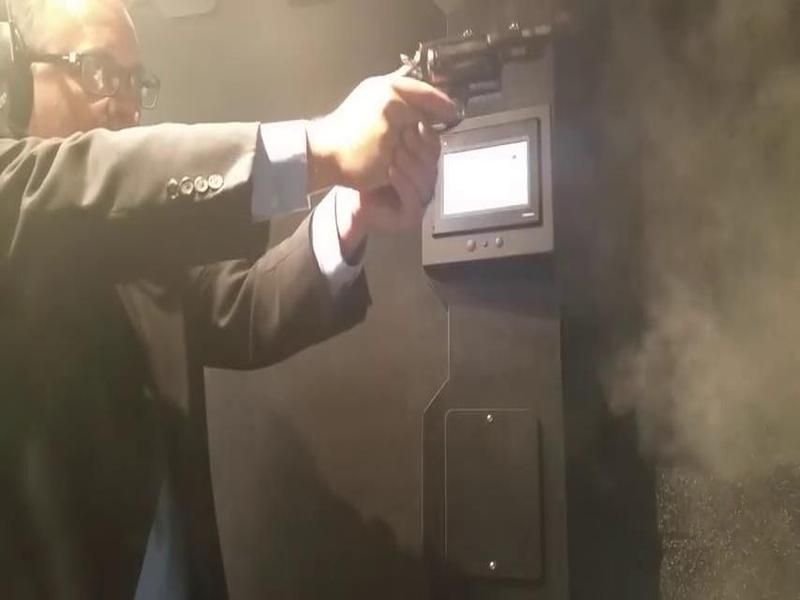Revolver: (361, 5, 593, 147)
